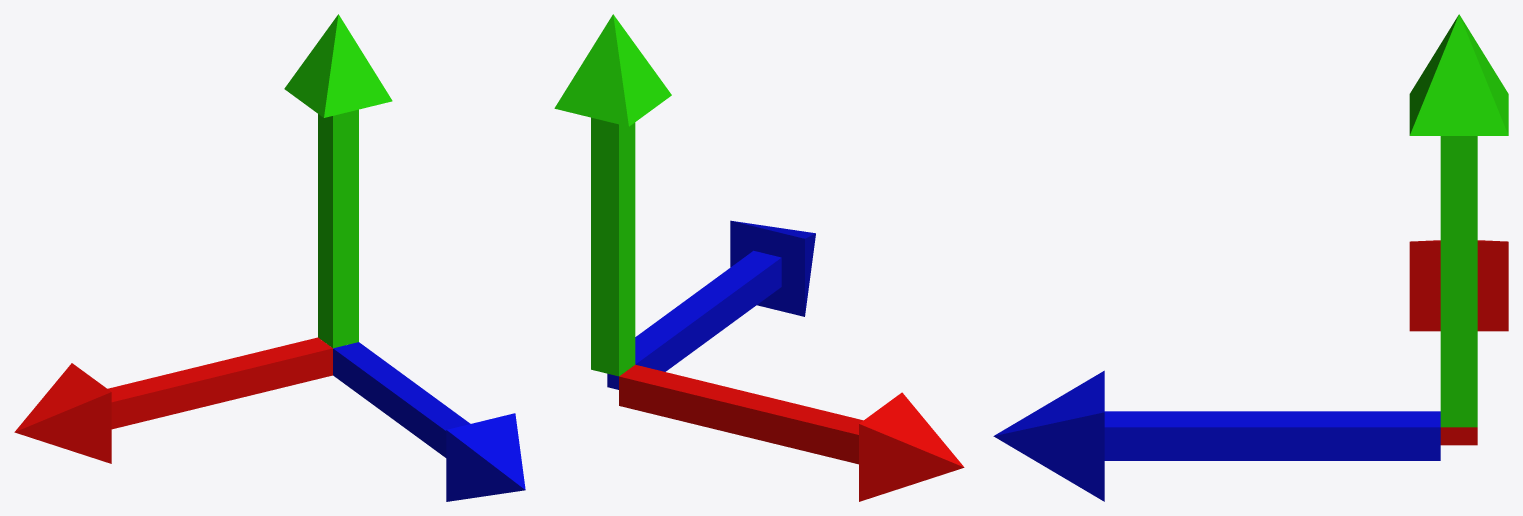
The model's file is Arrows.fbx.
3 renders of one model, left to right at view 1: azimuth 30°, elevation 25°; view 2: azimuth 150°, elevation 25°; view 3: azimuth 270°, elevation 25°, orthographic. The views are drawn at different scales.
Parts seen in each view (by area): view 1: Y, X, Z; view 2: Y, X, Z; view 3: Z, Y, X.
Boxes of the visible parts, x1,y1,x2,y2 form: Y: [284, 14, 392, 348]; X: [14, 337, 332, 463]; Z: [333, 342, 525, 501]; Y: [554, 14, 671, 376]; X: [619, 364, 964, 501]; Z: [607, 220, 815, 389]; Z: [993, 370, 1440, 501]; Y: [1409, 14, 1508, 427]; X: [1409, 240, 1508, 445].
Bounding box in the file's own units: 10.61 × 10.61 × 10.61.
